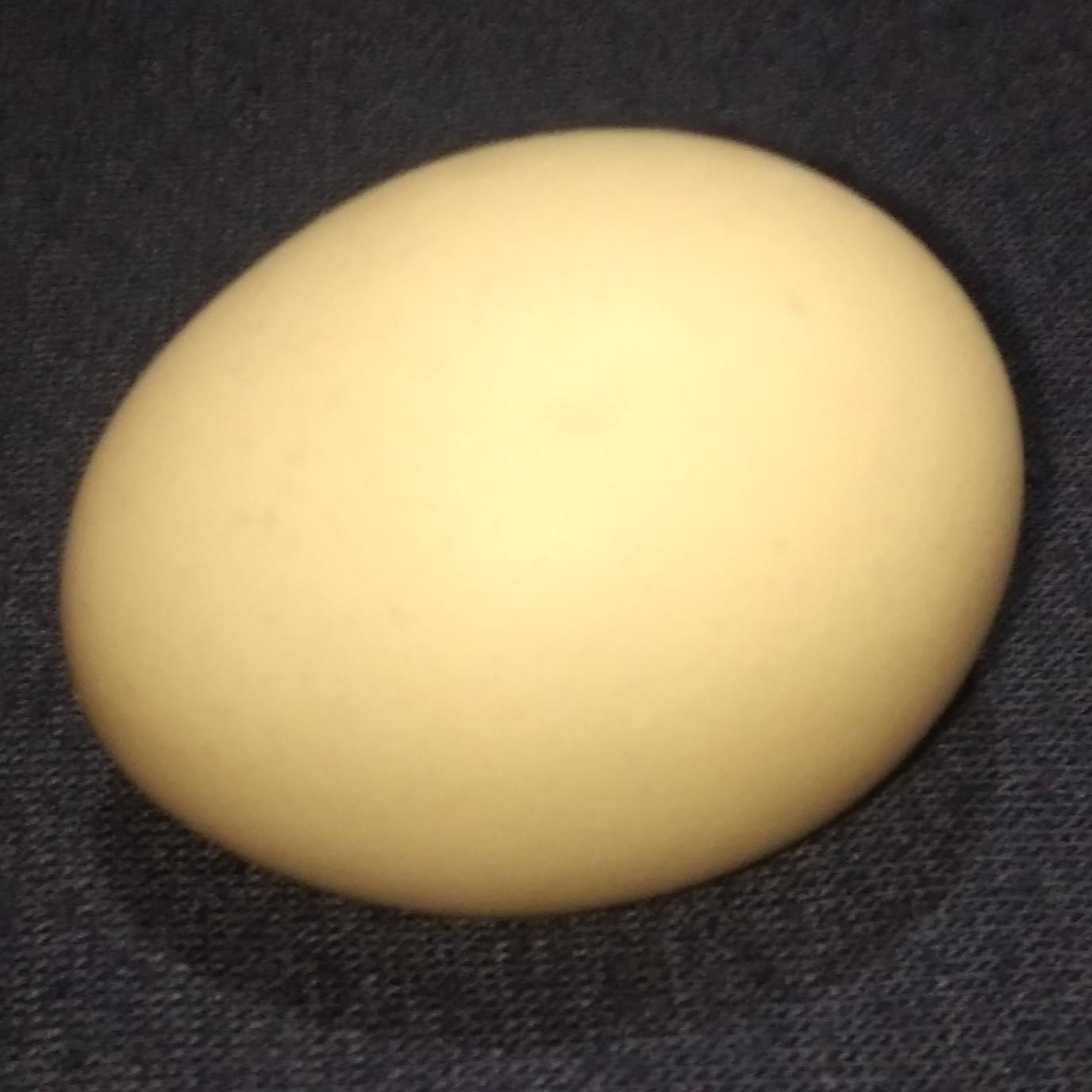egg: (69, 125, 1022, 921)
